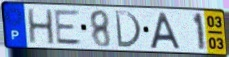1: (191, 11, 208, 52)
8: (89, 9, 113, 49)
A: (148, 11, 183, 51)
D: (113, 9, 144, 49)
E: (53, 9, 84, 46)
H: (26, 8, 57, 46)
